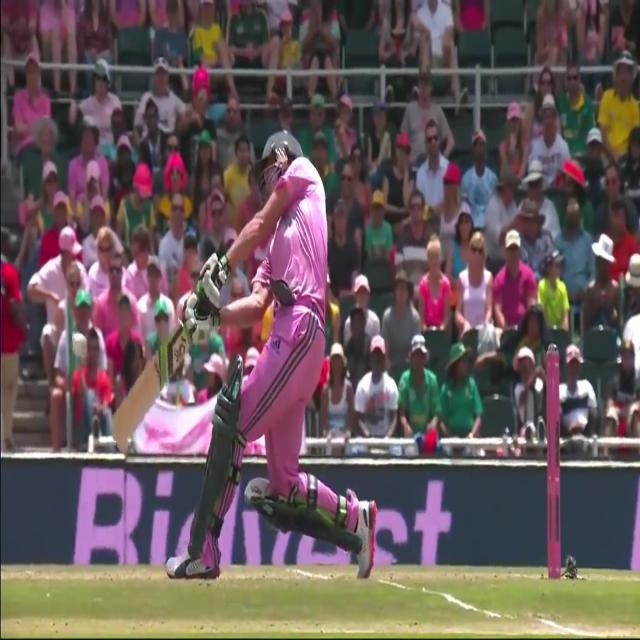Ball: (163, 132, 379, 582)
